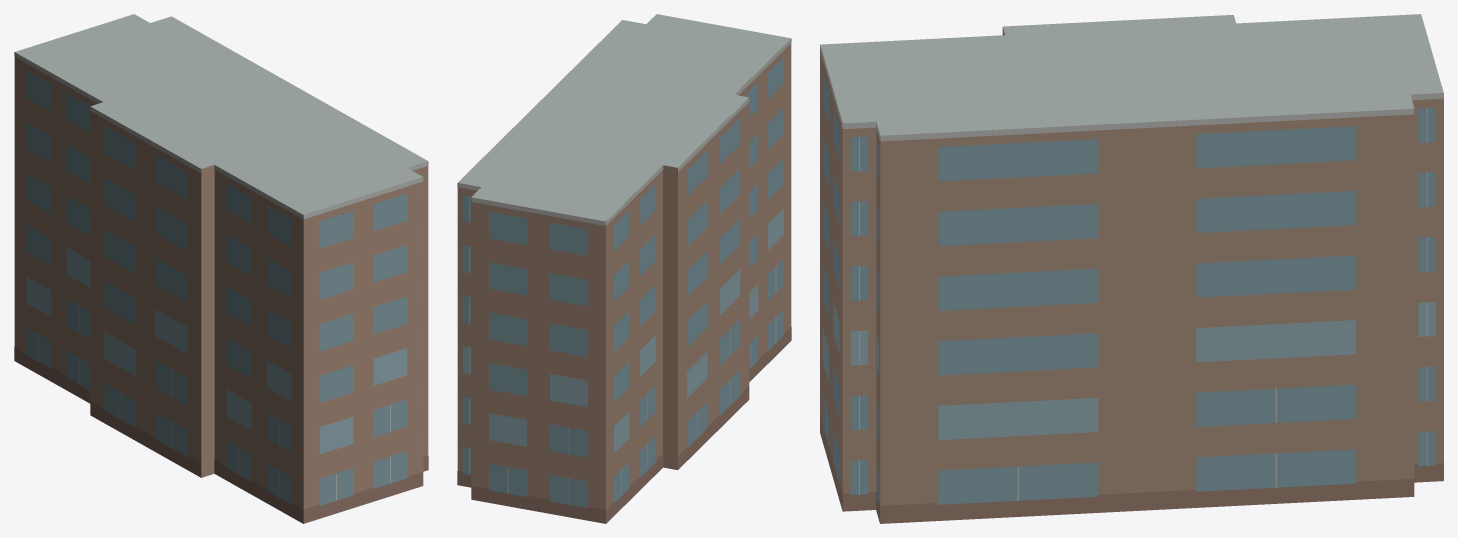
The model's file is survey-upis-32935166.glb.
The picture shows the model from 3 angles, left to right: view 1: azimuth 30°, elevation 25°; view 2: azimuth 150°, elevation 25°; view 3: azimuth 270°, elevation 25°; orthographic projection. The views are drawn at different scales.
Parts seen in each view (by area): view 1: survey-upis-32935166.tmp; view 2: survey-upis-32935166.tmp; view 3: survey-upis-32935166.tmp.
Part boxes in pixels (x1,y1,x2,y2): survey-upis-32935166.tmp: [14, 14, 428, 523]; survey-upis-32935166.tmp: [457, 14, 791, 523]; survey-upis-32935166.tmp: [820, 14, 1443, 523].
Bounding box in the file's own units: 11.18 × 16.6 × 24.19.
